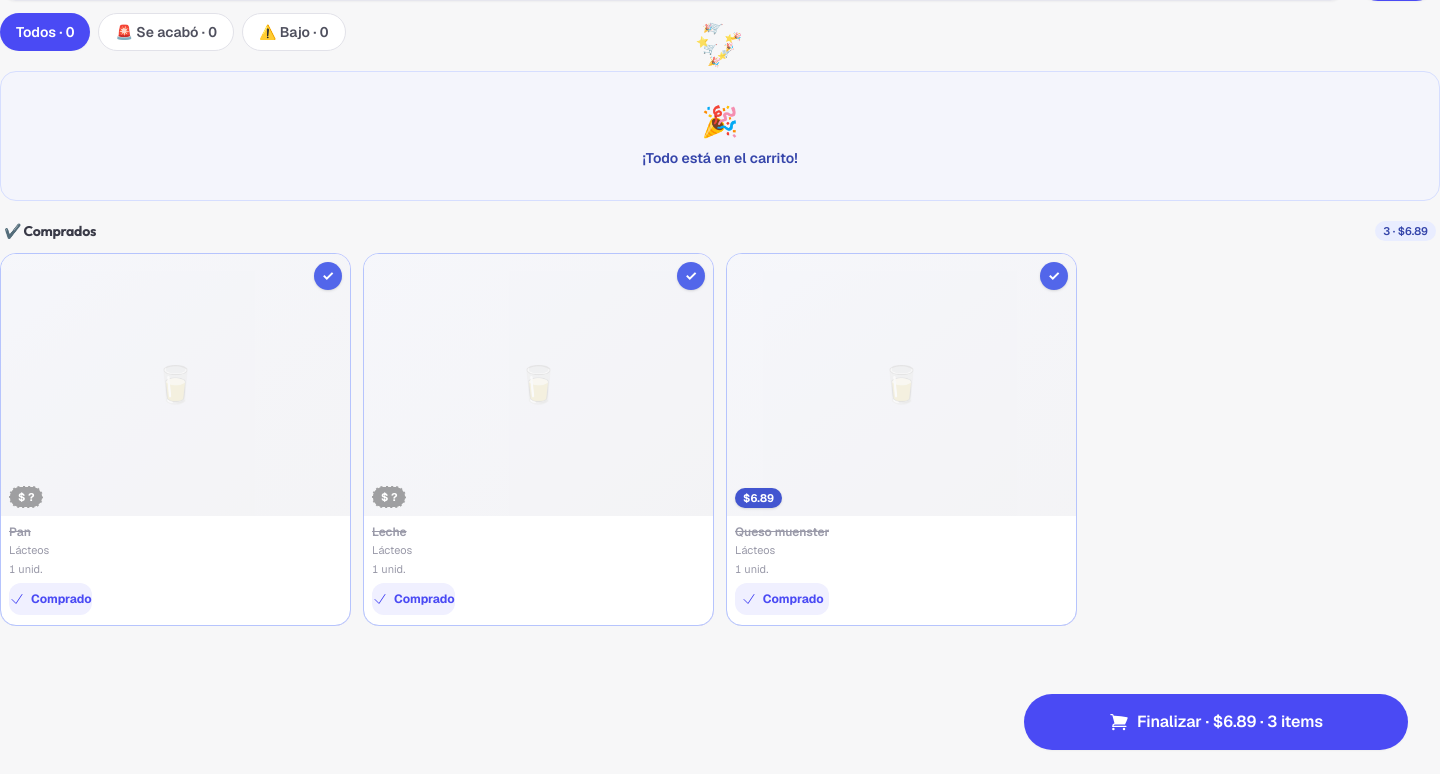
it: SupermarketView · la ronda de precios › abrir un producto desde la rejilla no es una ronda
(page scrolled)
Click the button with aria-label "Opciones de Pan".
click(176, 440)  # box [1,254,350,625]
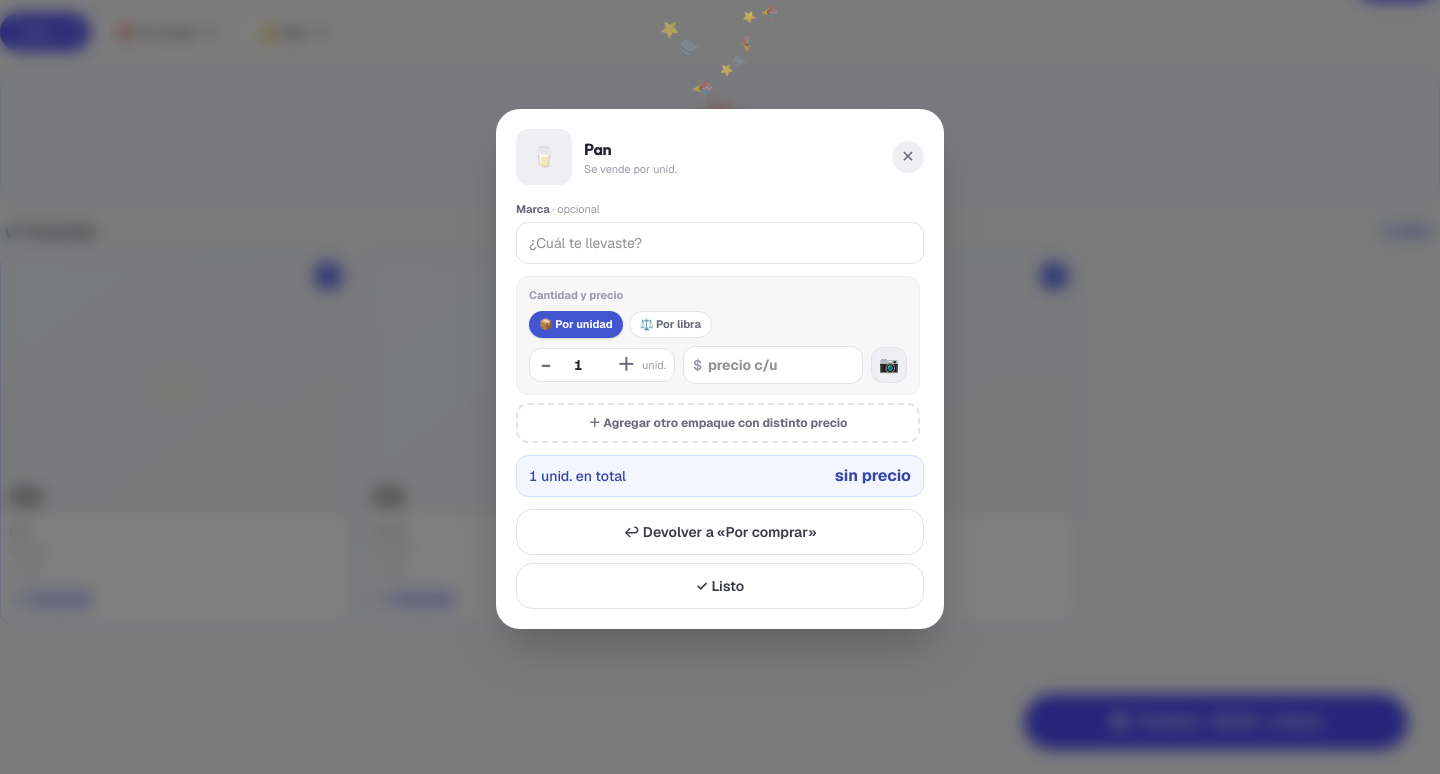
Expected: the heading "Pan" is shown, [584,139,612,159]
